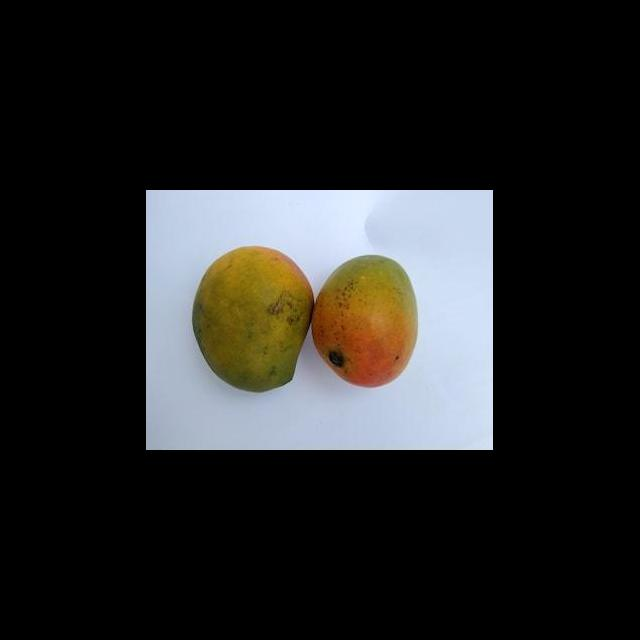mango: (192, 246, 316, 394), (312, 254, 420, 389)
